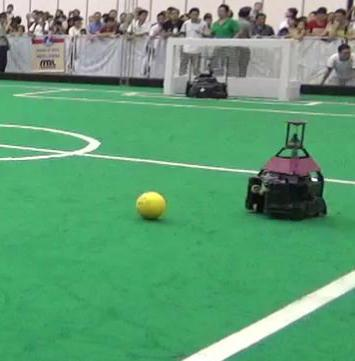robot: (241, 110, 334, 222)
